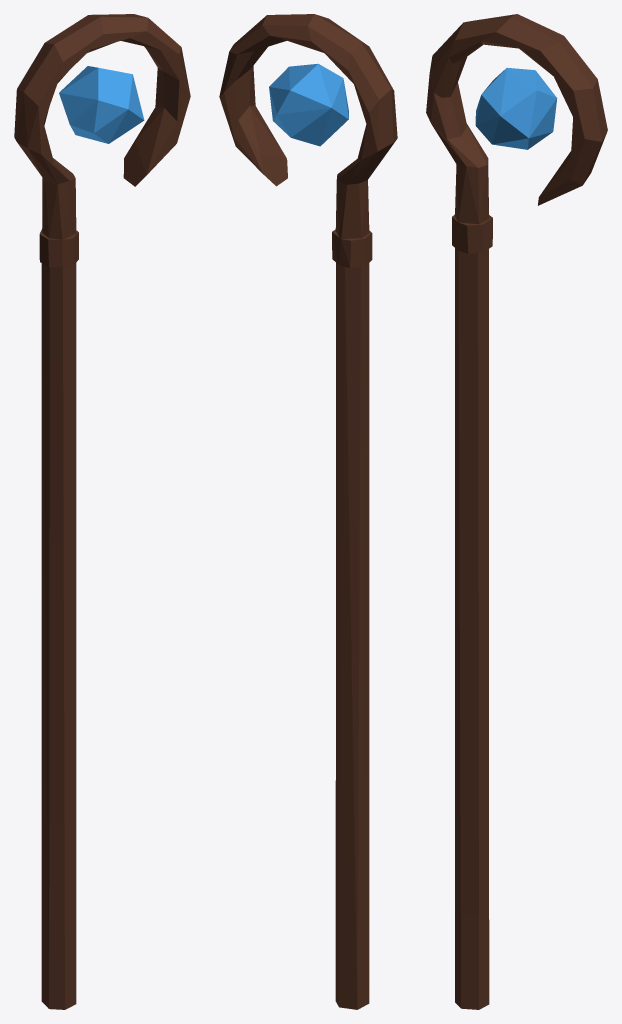
File: Staff2.fbx
3 views of the same model, side by side, from view 1: azimuth 30°, elevation 25°; view 2: azimuth 150°, elevation 25°; view 3: azimuth 330°, elevation 25° (orthographic).
Parts seen in each view (by area): view 1: Staff2; view 2: Staff2; view 3: Staff2.
Boxes of the visible parts, x1=… form: Staff2: x1=14, y1=14, x2=190, y2=1009; Staff2: x1=219, y1=14, x2=397, y2=1009; Staff2: x1=426, y1=14, x2=607, y2=1009.
Size of the model in its own units: 26.02 by 142 by 10.95.
